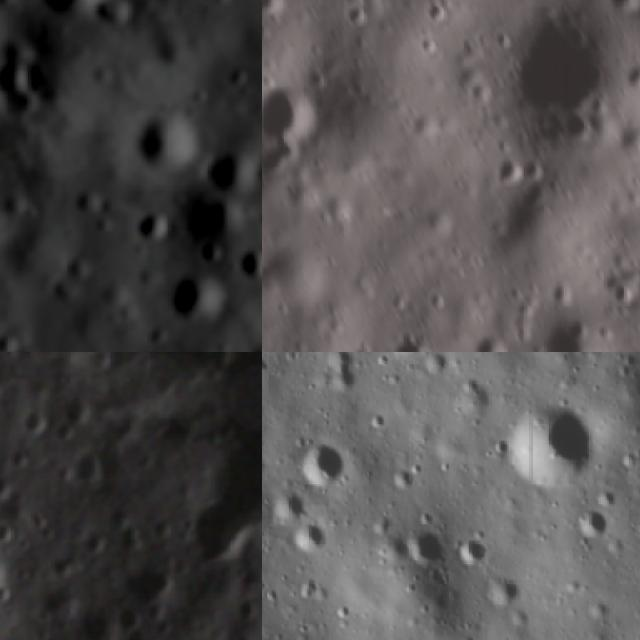crater: (509, 3, 626, 139), (113, 87, 224, 185), (506, 395, 600, 500), (0, 21, 69, 125), (189, 123, 262, 203), (154, 257, 228, 335), (19, 0, 135, 41), (119, 196, 187, 254), (262, 75, 323, 135), (294, 433, 348, 488), (194, 182, 247, 236), (406, 522, 448, 569), (262, 134, 307, 177), (535, 319, 591, 352), (476, 568, 522, 608), (226, 236, 262, 287), (189, 227, 231, 270), (508, 178, 551, 220), (56, 387, 100, 427), (451, 528, 489, 570), (328, 358, 367, 396), (292, 520, 334, 555), (268, 486, 307, 523), (568, 503, 604, 543), (76, 446, 111, 486), (451, 373, 487, 411), (489, 152, 524, 189), (381, 333, 444, 352), (466, 74, 500, 108), (463, 330, 514, 352), (405, 110, 442, 140), (387, 463, 419, 495), (416, 0, 453, 26), (516, 150, 548, 178), (608, 278, 636, 309), (339, 0, 368, 29), (421, 352, 453, 378), (412, 30, 440, 58), (364, 511, 396, 533), (488, 27, 516, 52), (157, 570, 181, 599), (594, 482, 618, 508), (621, 62, 640, 93), (0, 477, 17, 510), (604, 0, 640, 15), (0, 523, 24, 544), (0, 581, 16, 607), (262, 0, 286, 16), (349, 337, 374, 352), (0, 375, 12, 406), (262, 572, 270, 595)
